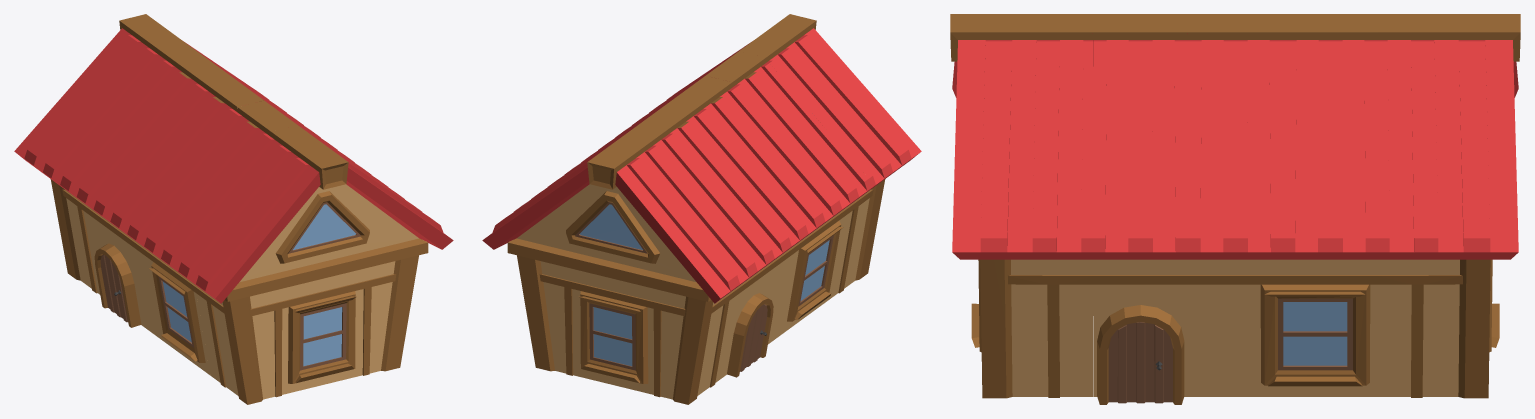
File: HouseDoubleSide.fbx
3 views of the same model, side by side, from view 1: azimuth 30°, elevation 25°; view 2: azimuth 150°, elevation 25°; view 3: azimuth 270°, elevation 25° (orthographic). The views are drawn at different scales.
Parts seen in each view (by area): view 1: Cube.002; view 2: Cube.002; view 3: Cube.002.
Part boxes in pixels (x1,y1,x2,y2): Cube.002: (14,14,453,404); Cube.002: (482,14,921,404); Cube.002: (950,14,1520,404).
Bounding box in the file's own units: 403 × 372 × 593.
